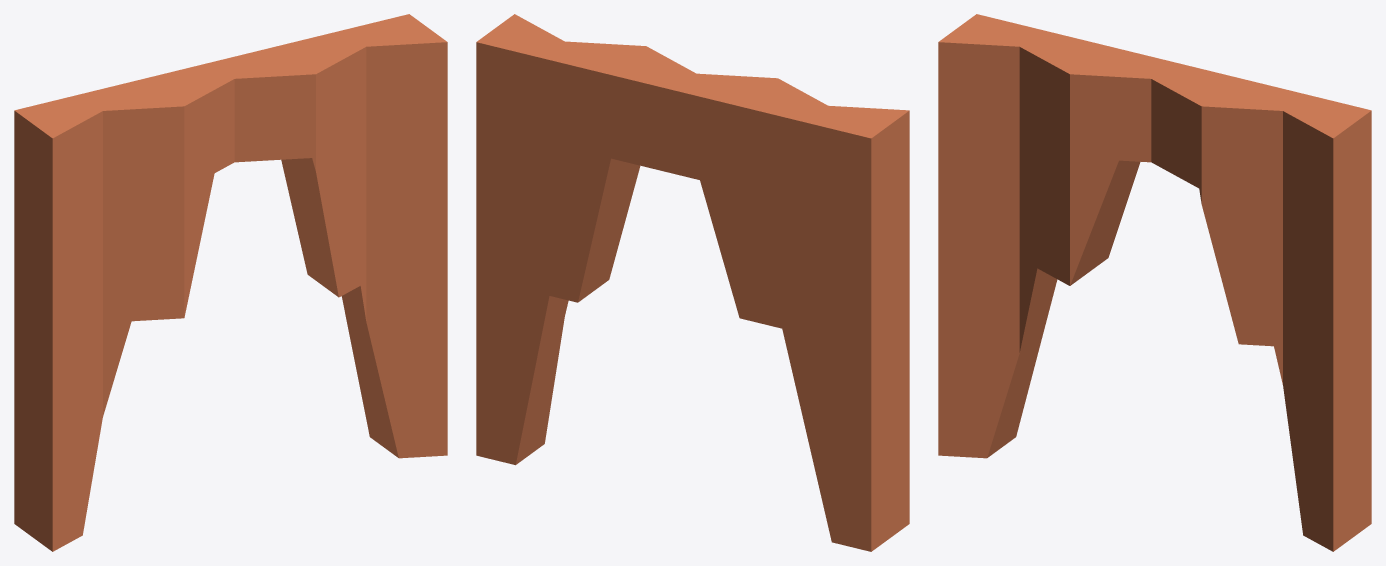
Rendered from cliff_cave_rock.dae.
3 views of the same model, side by side, from view 1: azimuth 30°, elevation 25°; view 2: azimuth 150°, elevation 25°; view 3: azimuth 330°, elevation 25° (orthographic).
Visible parts, largest first — view 1: cliff_cave_rock; view 2: cliff_cave_rock; view 3: cliff_cave_rock.
Boxes of the visible parts, x1,y1,x2,y2 form: cliff_cave_rock: [14, 14, 447, 551]; cliff_cave_rock: [476, 14, 909, 551]; cliff_cave_rock: [938, 14, 1371, 551].
Size of the model in its own units: 1 by 1 by 0.1685.
